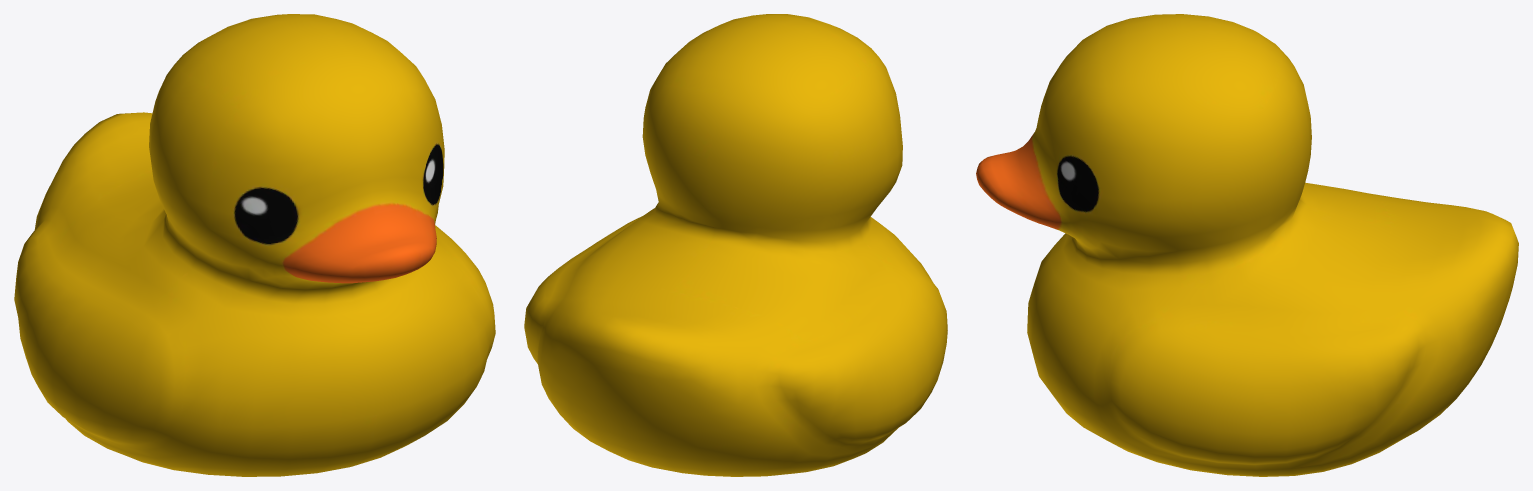
Rendered from rubber_duck.glb.
3 renders of one model, left to right at view 1: azimuth 30°, elevation 25°; view 2: azimuth 150°, elevation 25°; view 3: azimuth 270°, elevation 25°, orthographic. The views are drawn at different scales.
Parts seen in each view (by area): view 1: duck; view 2: duck; view 3: duck.
Boxes of the visible parts, x1,y1,x2,y2 form: duck: (14, 14, 495, 476); duck: (524, 14, 947, 476); duck: (976, 14, 1518, 476).
Bounding box in the file's own units: 0.0963 × 0.0932 × 0.1196.
2 materials, 2 textured.
